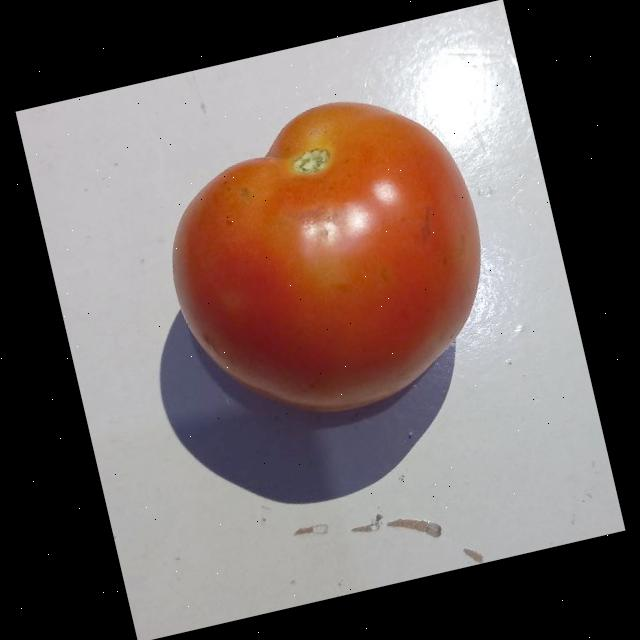tomato: (137, 58, 516, 444)
